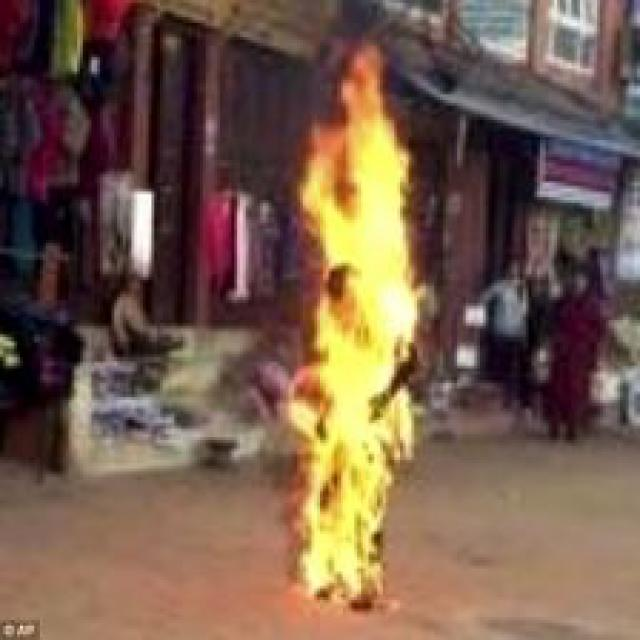fire: (280, 31, 437, 620)
